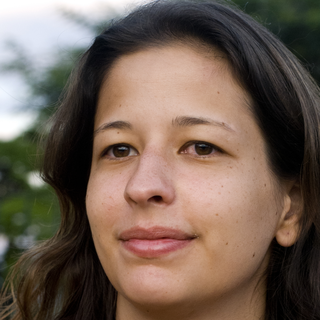eye: (177, 136, 229, 163), (100, 138, 143, 164)
